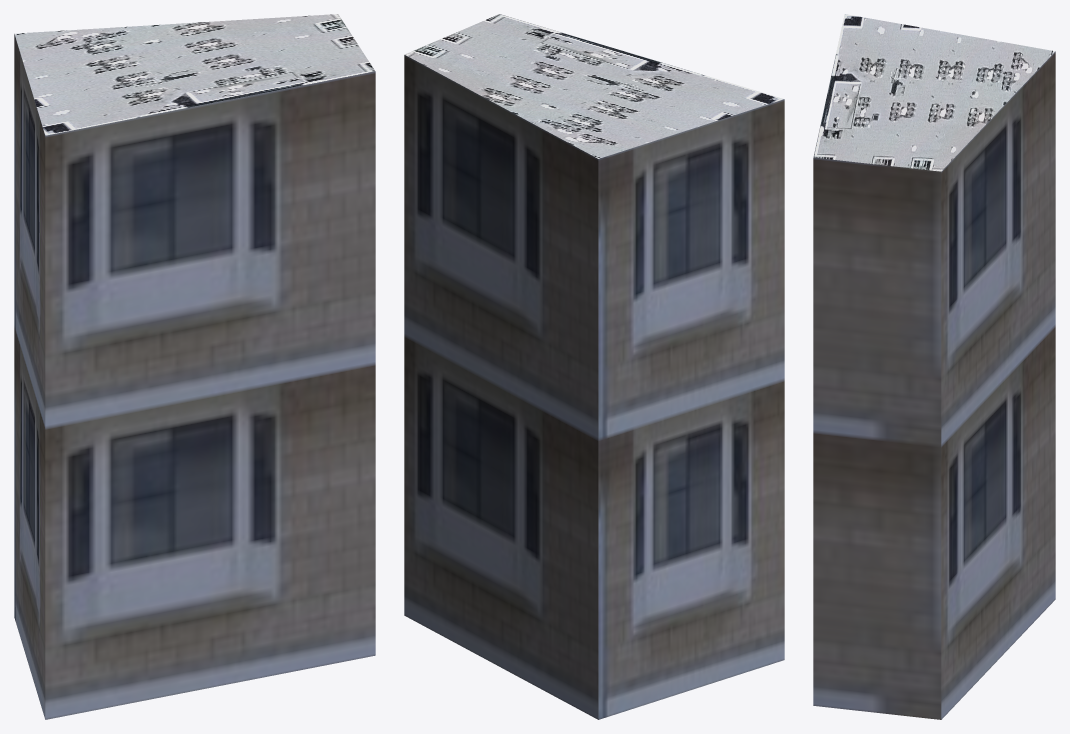
Rendered from ResTex__2609.fbx.
The picture shows the model from 3 angles, left to right: view 1: azimuth 30°, elevation 25°; view 2: azimuth 150°, elevation 25°; view 3: azimuth 270°, elevation 25°; orthographic projection. The views are drawn at different scales.
Parts seen in each view (by area): view 1: CityEngineMaterial_3_m, CityEngineMaterial_8_m; view 2: CityEngineMaterial_3_m, CityEngineMaterial_8_m; view 3: CityEngineMaterial_3_m, CityEngineMaterial_8_m.
Boxes of the visible parts, x1=… form: CityEngineMaterial_3_m: x1=14, y1=34, x2=375, y2=719; CityEngineMaterial_8_m: x1=14, y1=14, x2=375, y2=135; CityEngineMaterial_3_m: x1=404, y1=55, x2=784, y2=719; CityEngineMaterial_8_m: x1=405, y1=14, x2=784, y2=158; CityEngineMaterial_3_m: x1=813, y1=51, x2=1055, y2=719; CityEngineMaterial_8_m: x1=813, y1=14, x2=1054, y2=171.
Bounding box in the file's own units: 3.7 × 6 × 2.4.
Materials: 2 (2 with a texture image).
